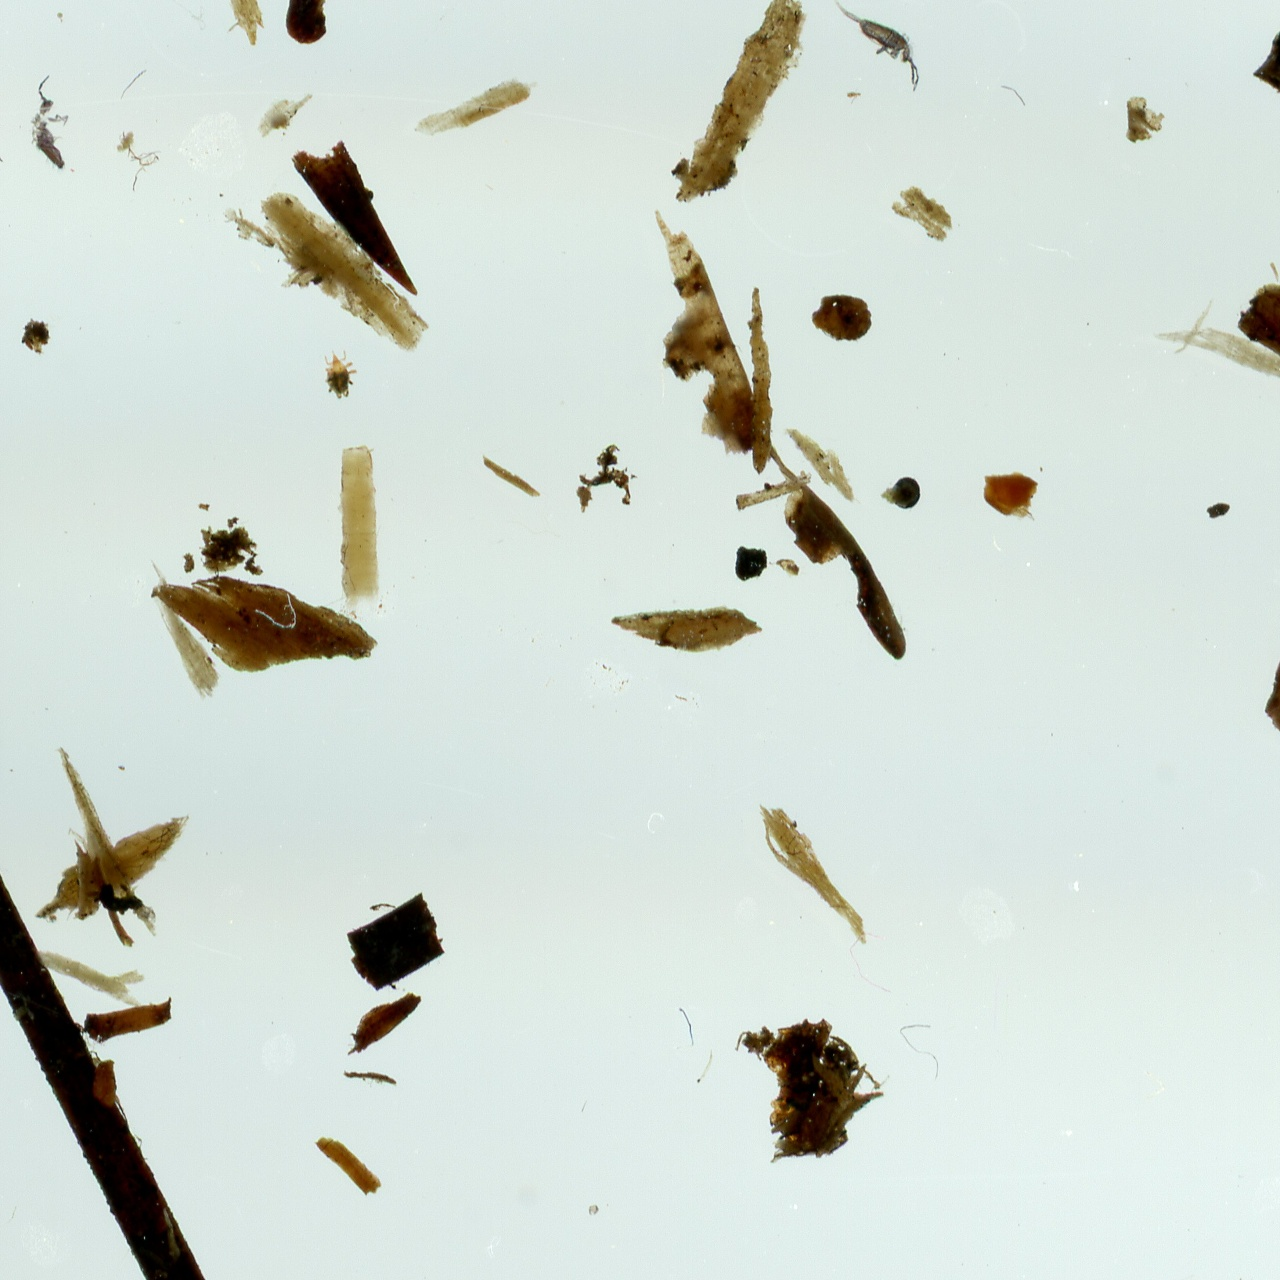arthropod: (830, 0, 922, 93), (23, 70, 76, 179), (321, 345, 361, 402)
